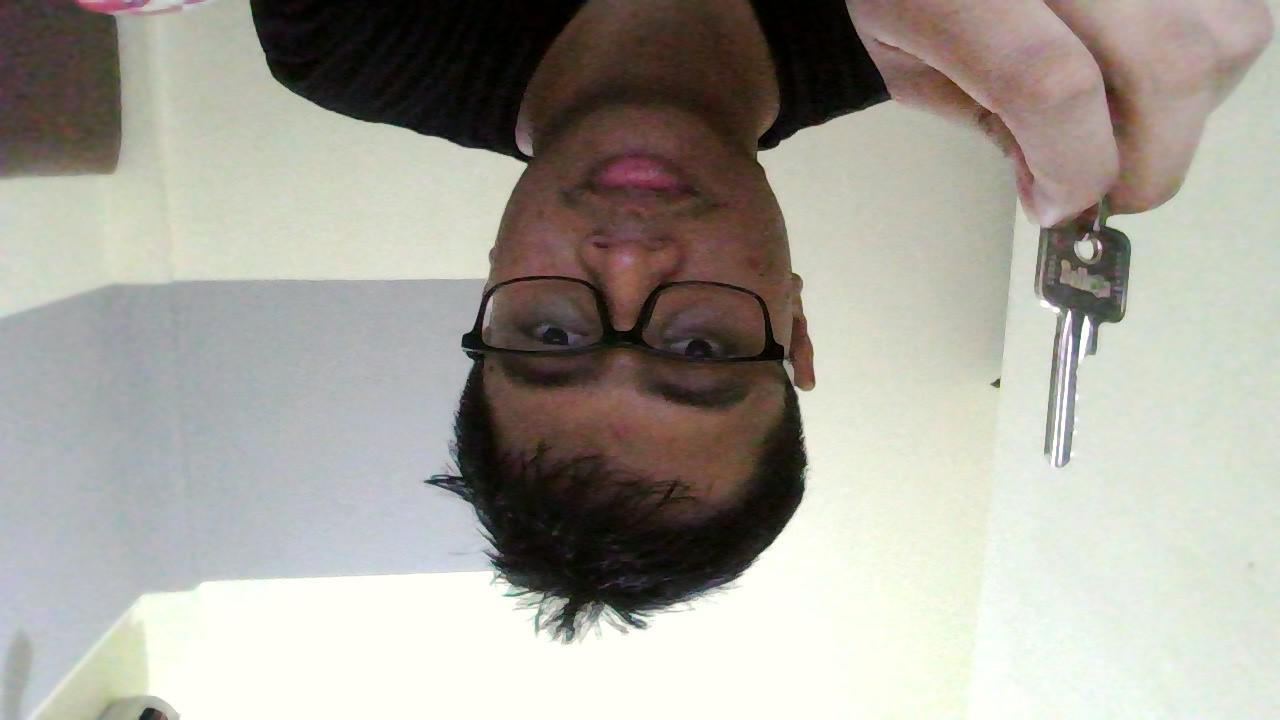keys: (1025, 210, 1129, 468)
